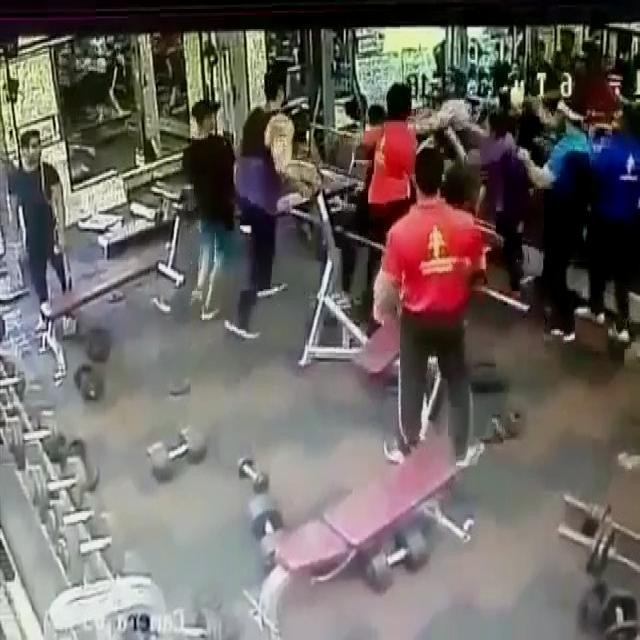fight: (359, 87, 523, 208)
